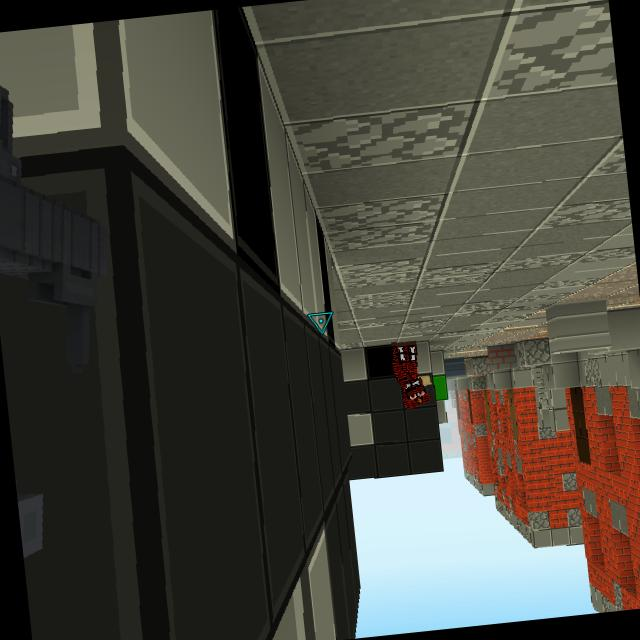enemy: (387, 338, 434, 412)
